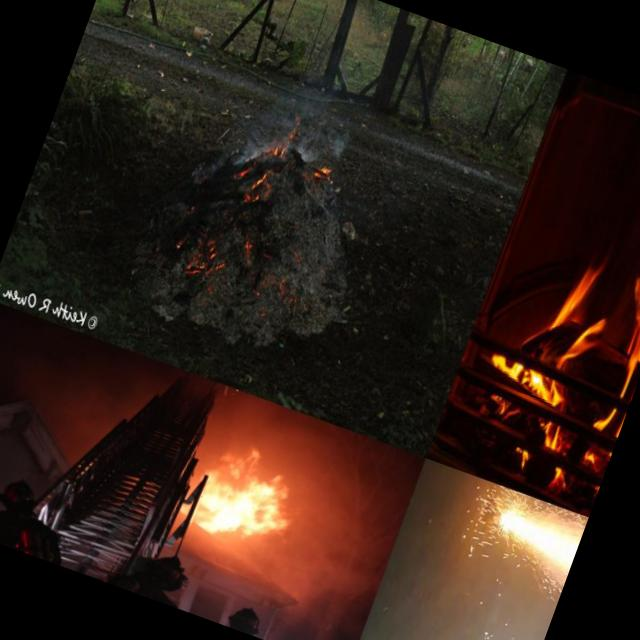fire: (471, 96, 640, 485), (185, 443, 307, 553), (184, 232, 230, 286), (240, 165, 276, 212), (271, 111, 302, 163), (310, 158, 334, 183)
smoke: (210, 387, 387, 499), (178, 524, 337, 620), (278, 478, 367, 576), (296, 108, 355, 168), (240, 120, 276, 166)
